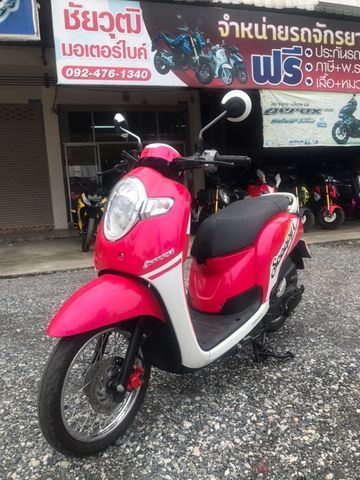motorcycle: (39, 92, 309, 459)
